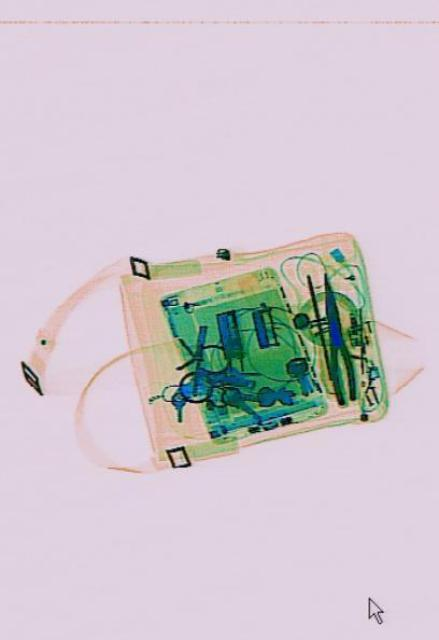Pliers: (312, 269, 357, 406)
